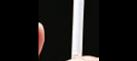Cigarette: (70, 0, 83, 59)
